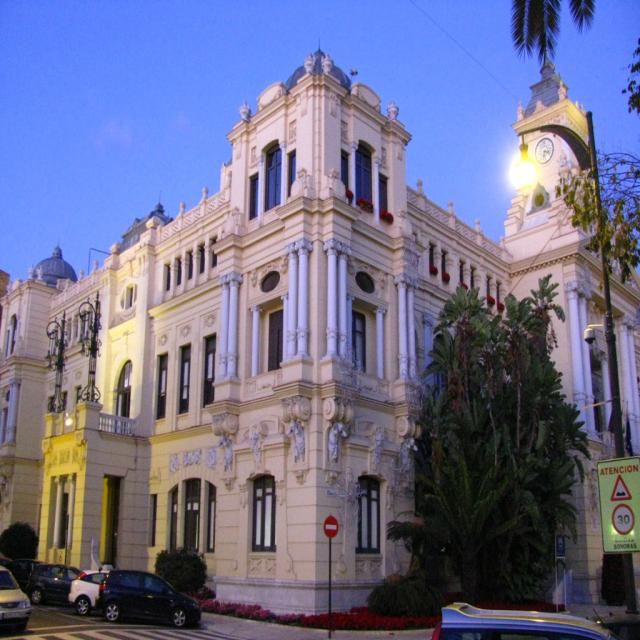car: (53, 574, 210, 628)
